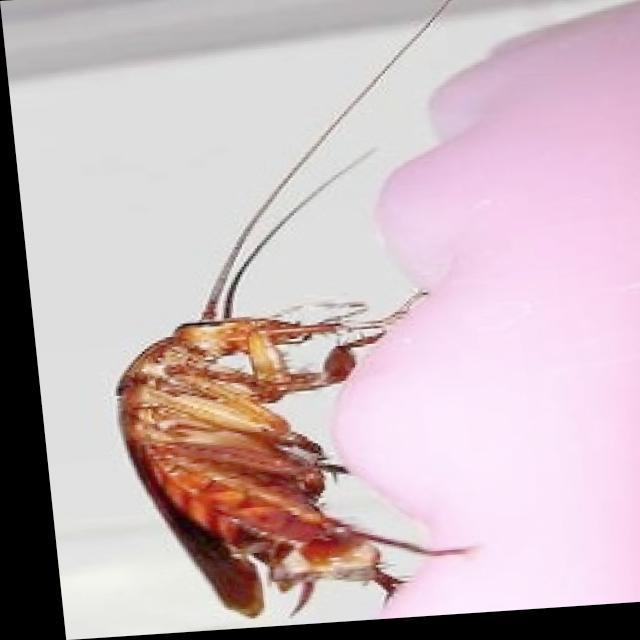cockroach: (127, 226, 411, 628)
